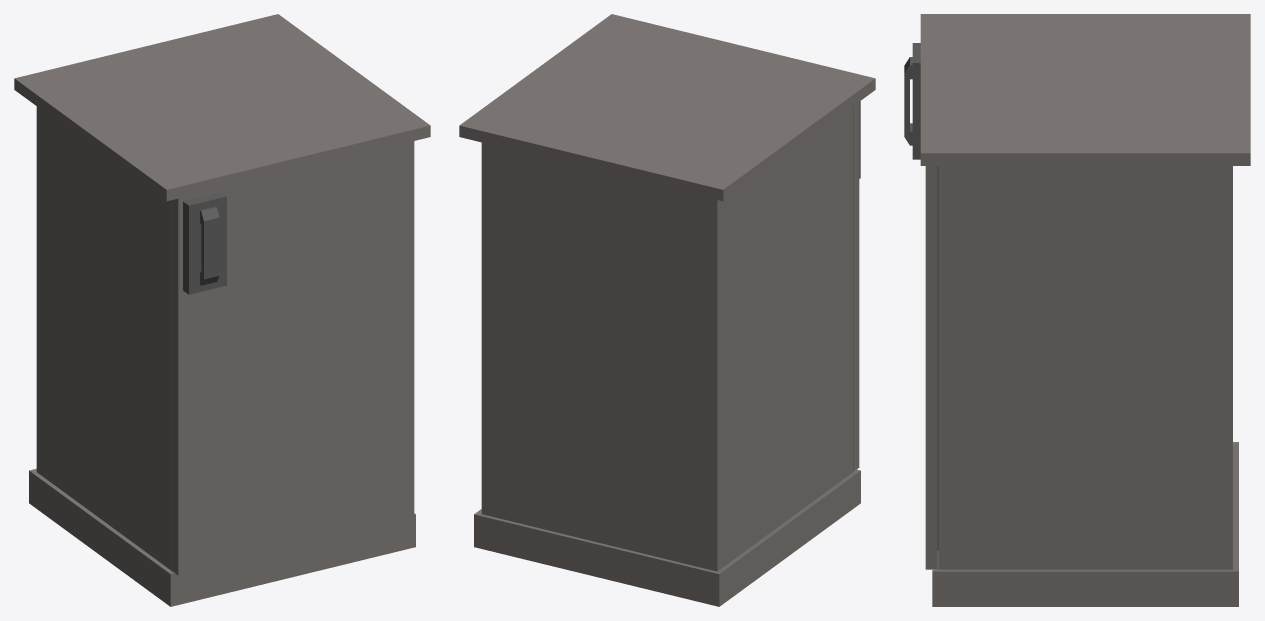
The model's file is freezersmall_01_A.gltf.
3 views of the same model, side by side, from view 1: azimuth 30°, elevation 25°; view 2: azimuth 150°, elevation 25°; view 3: azimuth 270°, elevation 25° (orthographic). The views are drawn at different scales.
Parts seen in each view (by area): view 1: freezersmall_01_A, Doorfreezersmall_01_A; view 2: freezersmall_01_A, Doorfreezersmall_01_A; view 3: freezersmall_01_A, Doorfreezersmall_01_A.
Boxes of the visible parts, box(x1,y1,x2,y2) form: freezersmall_01_A: box(14, 14, 430, 606); Doorfreezersmall_01_A: box(173, 141, 414, 575); freezersmall_01_A: box(459, 14, 875, 606); Doorfreezersmall_01_A: box(853, 101, 860, 471); freezersmall_01_A: box(920, 14, 1250, 606); Doorfreezersmall_01_A: box(904, 43, 938, 569).
Size of the model in its own units: 0.6717 by 1.03 by 0.7049.
Materials: 1 (1 with a texture image).
